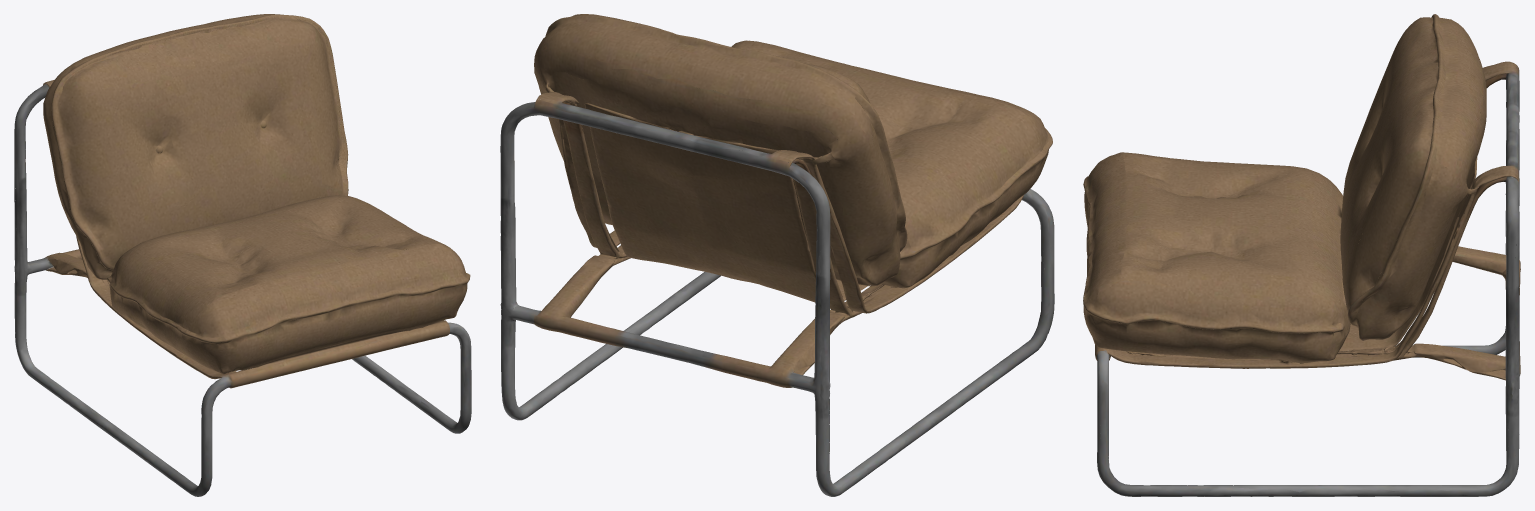
The picture shows the model from 3 angles, left to right: view 1: azimuth 30°, elevation 25°; view 2: azimuth 150°, elevation 25°; view 3: azimuth 270°, elevation 25°; orthographic projection. The views are drawn at different scales.
Visible parts, largest first — view 1: geometry_0; view 2: geometry_0; view 3: geometry_0.
Boxes of the visible parts, x1=… form: geometry_0: x1=14, y1=14, x2=471, y2=496; geometry_0: x1=500, y1=14, x2=1054, y2=496; geometry_0: x1=1083, y1=14, x2=1520, y2=496.
Bounding box in the file's own units: 0.6919 × 0.7769 × 0.8501.
1 material, 1 textured.
